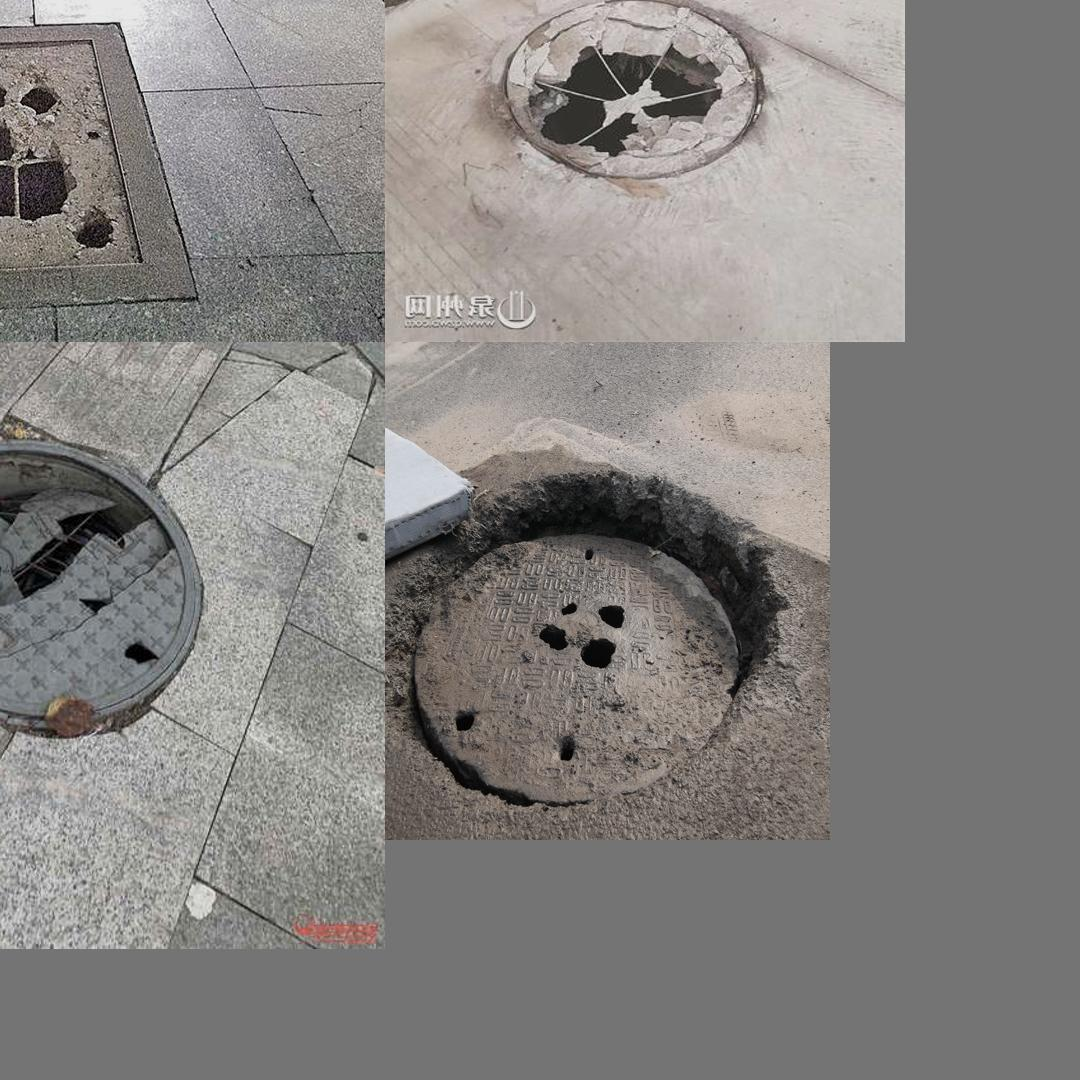broke: (413, 533, 740, 802), (0, 429, 216, 743), (450, 0, 802, 187), (0, 20, 208, 313)
